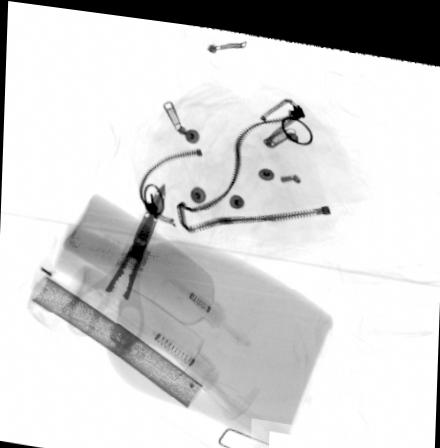Scissors: (63, 180, 165, 347)
